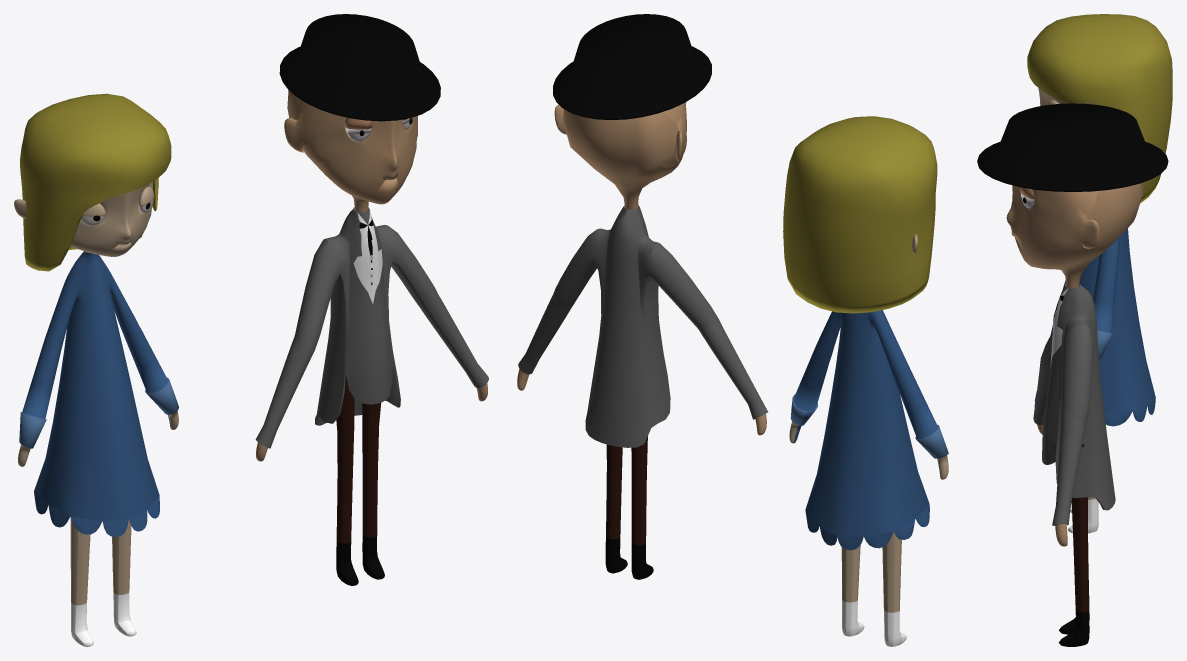
Rendered from clementine_characters_cle.fbx.
3 renders of one model, left to right at view 1: azimuth 30°, elevation 25°; view 2: azimuth 150°, elevation 25°; view 3: azimuth 270°, elevation 25°, orthographic. The views are drawn at different scales.
Parts seen in each view (by area): view 1: Cylinder, Cube_Cube.003, Cylinder.002, Cube_Cube.006, Cylinder.001; view 2: Cylinder, Cube_Cube.003, Cylinder.002, Cube_Cube.006, Cylinder.001; view 3: Cylinder, Cylinder.002, Cube_Cube.003, Cube_Cube.006, Cylinder.001.
Boxes of the visible parts, x1,y1,x2,y2 form: Cylinder: [14, 93, 178, 646]; Cube_Cube.003: [255, 207, 488, 448]; Cylinder.002: [279, 14, 440, 121]; Cube_Cube.006: [256, 90, 487, 461]; Cylinder.001: [336, 376, 384, 585]; Cylinder: [783, 116, 948, 646]; Cube_Cube.003: [518, 205, 767, 447]; Cylinder.002: [553, 14, 711, 120]; Cube_Cube.006: [517, 102, 766, 435]; Cylinder.001: [605, 436, 653, 579]; Cylinder: [1027, 14, 1172, 533]; Cylinder.002: [977, 103, 1168, 191]; Cube_Cube.003: [1033, 283, 1115, 525]; Cube_Cube.006: [1006, 182, 1143, 546]; Cylinder.001: [1059, 444, 1089, 646].
Size of the model in its own units: 261 by 298 by 102.
